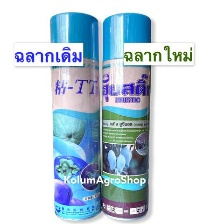aerosol_cans: (46, 8, 109, 222), (97, 7, 155, 224)
